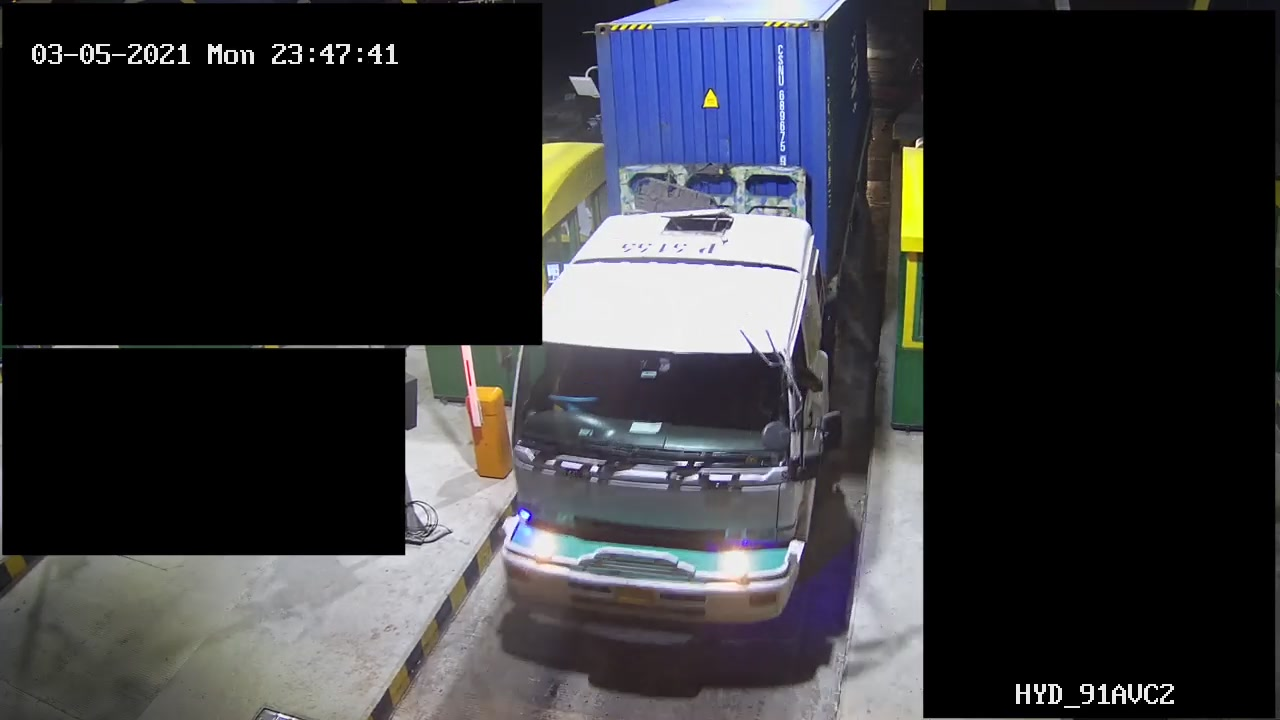F6: (491, 1, 885, 662)
